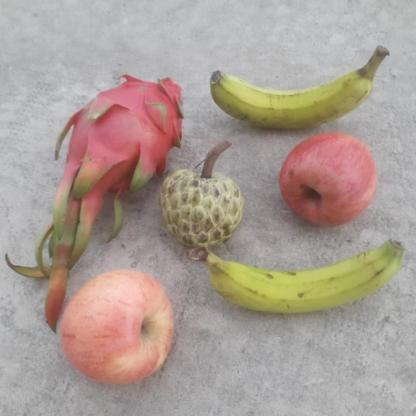annona: (159, 166, 245, 254)
apple: (58, 270, 176, 385), (279, 132, 379, 231)
banana: (189, 238, 408, 316), (205, 45, 387, 129)
pitaya: (53, 74, 190, 208)
